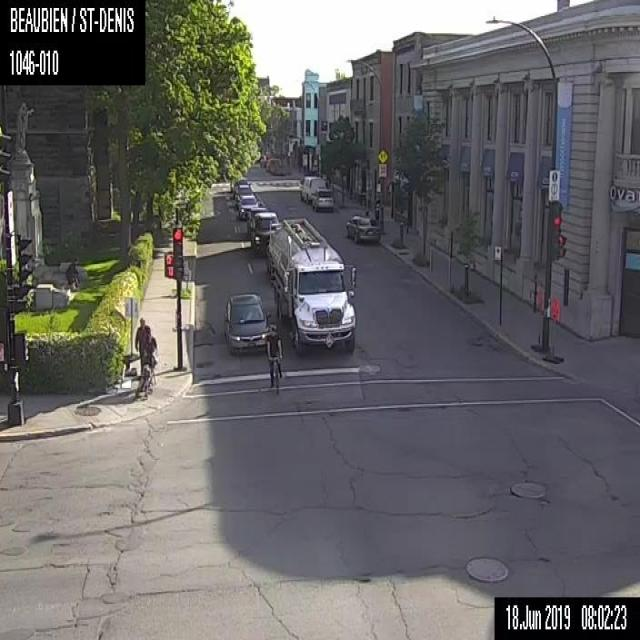construction: (541, 298, 562, 362)
cyclist: (266, 322, 286, 397)
pedestrian: (137, 323, 157, 397), (134, 314, 150, 374)
vehicle: (268, 217, 356, 352), (222, 288, 271, 352), (246, 211, 280, 255), (343, 211, 379, 244), (299, 174, 325, 203), (237, 193, 259, 220), (312, 187, 334, 213), (235, 184, 251, 208)
